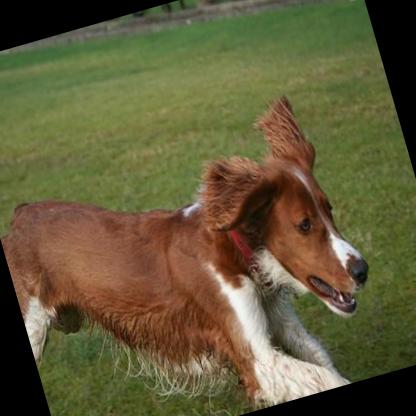Welsh_springer_spaniel: (0, 83, 395, 416)
